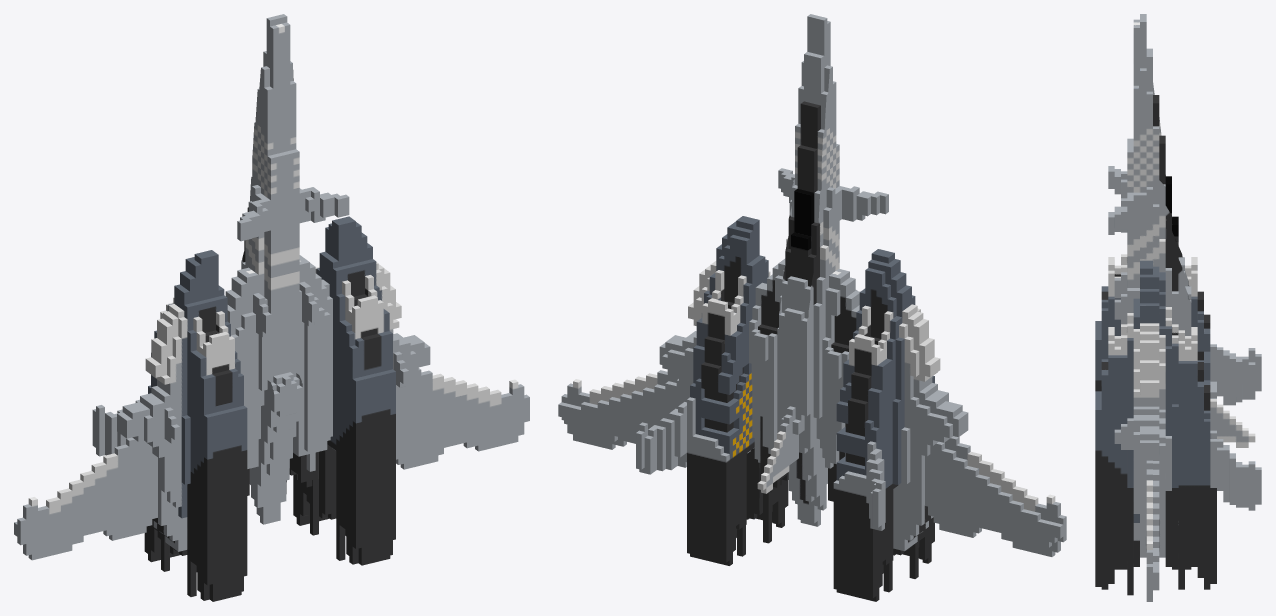
File: Spaceships_3.fbx
3 renders of one model, left to right at view 1: azimuth 30°, elevation 25°; view 2: azimuth 150°, elevation 25°; view 3: azimuth 270°, elevation 25°, orthographic. The views are drawn at different scales.
Visible parts, largest first — view 1: Spaceships_3; view 2: Spaceships_3; view 3: Spaceships_3.
Part boxes in pixels (x1=…): Spaceships_3: x1=14, y1=14, x2=529, y2=601; Spaceships_3: x1=558, y1=14, x2=1066, y2=601; Spaceships_3: x1=1095, y1=14, x2=1261, y2=601.
Size of the model in its own units: 890 by 920 by 260.
